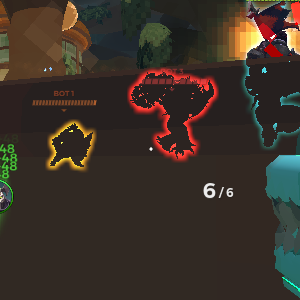model: (129, 69, 218, 175), (44, 120, 97, 174)
